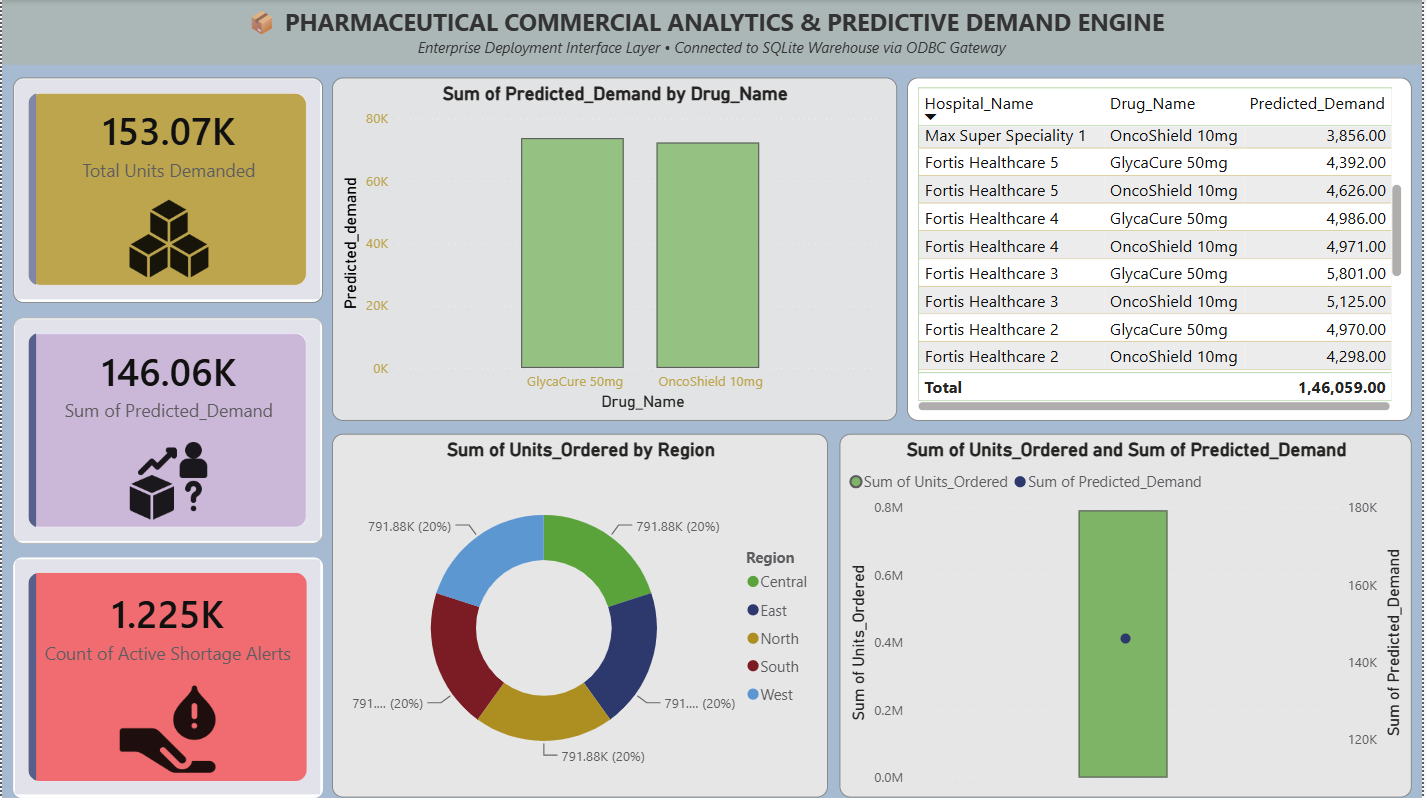

Layout of this report page (visuals, bound fields, positions):
{"tool":"powerbi","page":{"name":"Page 1","canvas":[1280,720],"ordinal":0},"visuals":[{"type":"cardVisual","fields":{"Data":["Sum(demand_predictions.Units_Ordered)"]},"box":[10.1,69.9,279.5,202.9],"z":0},{"type":"cardVisual","fields":{"Data":["Sum(demand_predictions.Predicted_Demand)"]},"box":[10.1,286.3,279.5,204],"z":1000},{"type":"cardVisual","fields":{"Data":["CountNonNull(demand_predictions.Active Shortage Alerts)"]},"box":[10.1,502.7,279.5,216.4],"z":2000},{"type":"clusteredColumnChart","fields":{"Category":["demand_predictions.Drug_Name"],"Y":["Sum(demand_predictions.Predicted_Demand)"]},"box":[297.6,69.9,509.5,310],"z":3000},{"type":"donutChart","fields":{"Category":["demand_predictions.Region"],"Y":["Sum(sales_records.Units_Ordered)"]},"box":[297.6,391.1,447.5,328],"z":4000},{"type":"tableEx","fields":{"Values":["demand_predictions.Hospital_Name","demand_predictions.Drug_Name","Sum(demand_predictions.Predicted_Demand)"]},"box":[816,69.9,455.4,310],"z":5000},{"type":"lineClusteredColumnComboChart","fields":{"Y":["Sum(sales_records.Units_Ordered)"],"Y2":["Sum(demand_predictions.Predicted_Demand)"]},"box":[755.2,391.1,516.2,328],"z":6000},{"type":"shape","box":[0,0,1280,58.6],"z":7000},{"type":"textbox","box":[180,0,919,58],"z":8000}]}

Visuals, with their boxes in screenshot pixels (x1, y1, x2, y2), scaled from the page's 1280x720 canvas onto the 1426x798 screenshot:
cardVisual - Sum(demand_predictions.Units_Ordered): (left=11, top=77, right=323, bottom=302)
cardVisual - Sum(demand_predictions.Predicted_Demand): (left=11, top=317, right=323, bottom=543)
cardVisual - CountNonNull(demand_predictions.Active Shortage Alerts): (left=11, top=557, right=323, bottom=797)
clusteredColumnChart - demand_predictions.Drug_Name x Sum(demand_predictions.Predicted_Demand): (left=332, top=77, right=899, bottom=421)
donutChart - demand_predictions.Region x Sum(sales_records.Units_Ordered): (left=332, top=433, right=830, bottom=797)
tableEx - demand_predictions.Hospital_Name x demand_predictions.Drug_Name: (left=909, top=77, right=1416, bottom=421)
lineClusteredColumnComboChart - Sum(sales_records.Units_Ordered) x Sum(demand_predictions.Predicted_Demand): (left=841, top=433, right=1416, bottom=797)
shape: (left=0, top=0, right=1425, bottom=65)
textbox: (left=201, top=0, right=1224, bottom=64)
